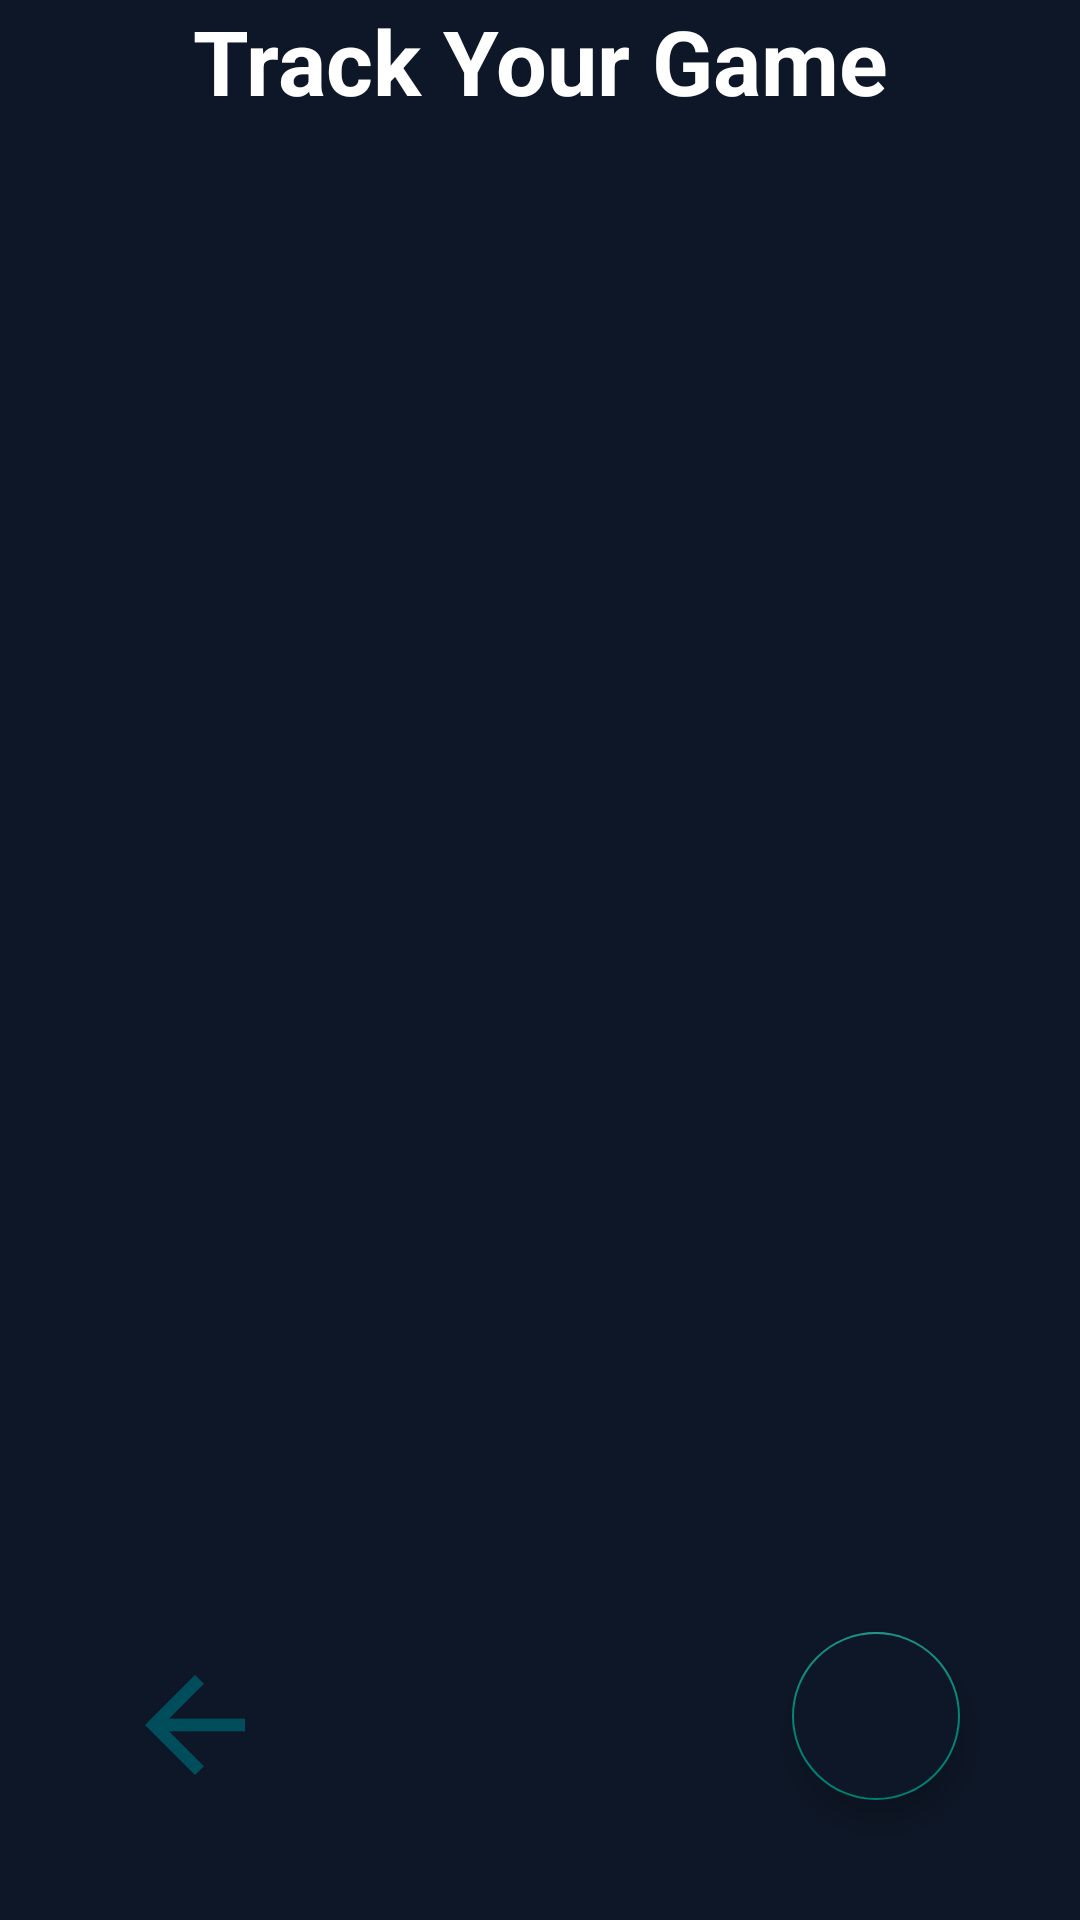

Icon bounding boxes for this 1080px x 1920px phone screenshot, format (x1, y1, x2, y2):
arrow back: (145, 1675, 245, 1775)
